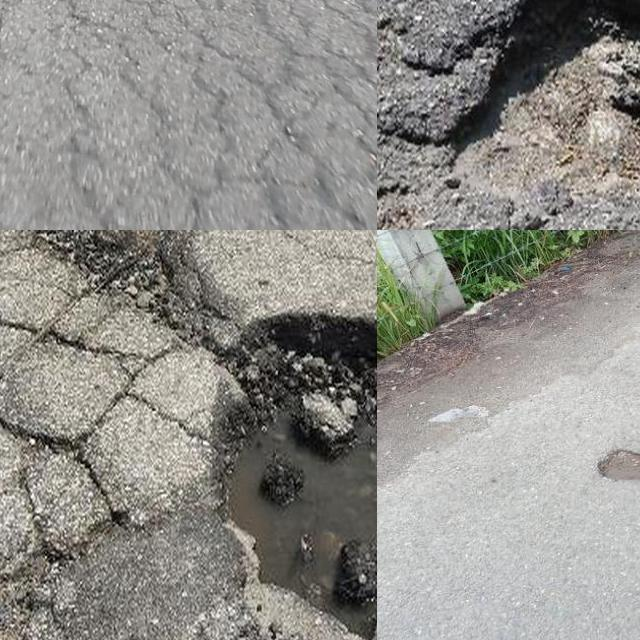Lubang: (213, 320, 377, 635), (439, 0, 640, 209), (46, 230, 214, 341), (598, 445, 640, 481)
Retak Buaya: (51, 0, 377, 230)
